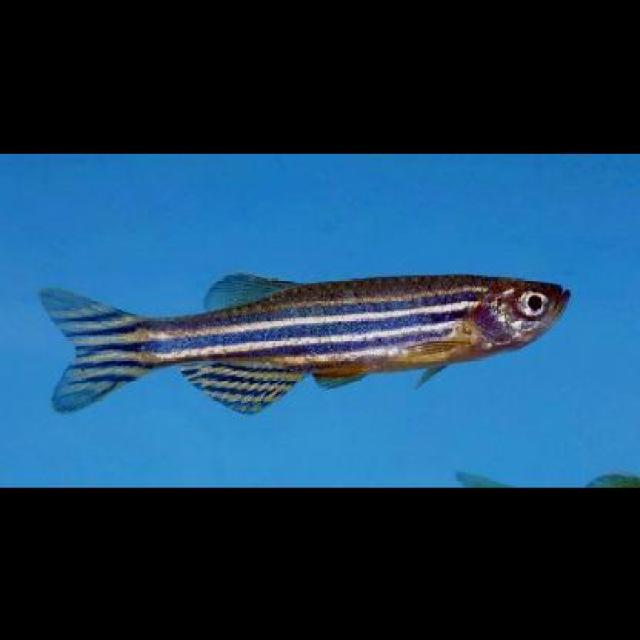ZebraFish: (38, 270, 574, 416)
